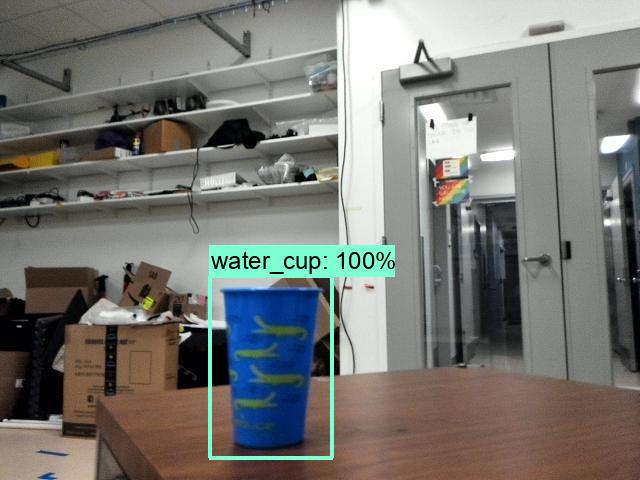water_cup: (206, 277, 330, 463)
